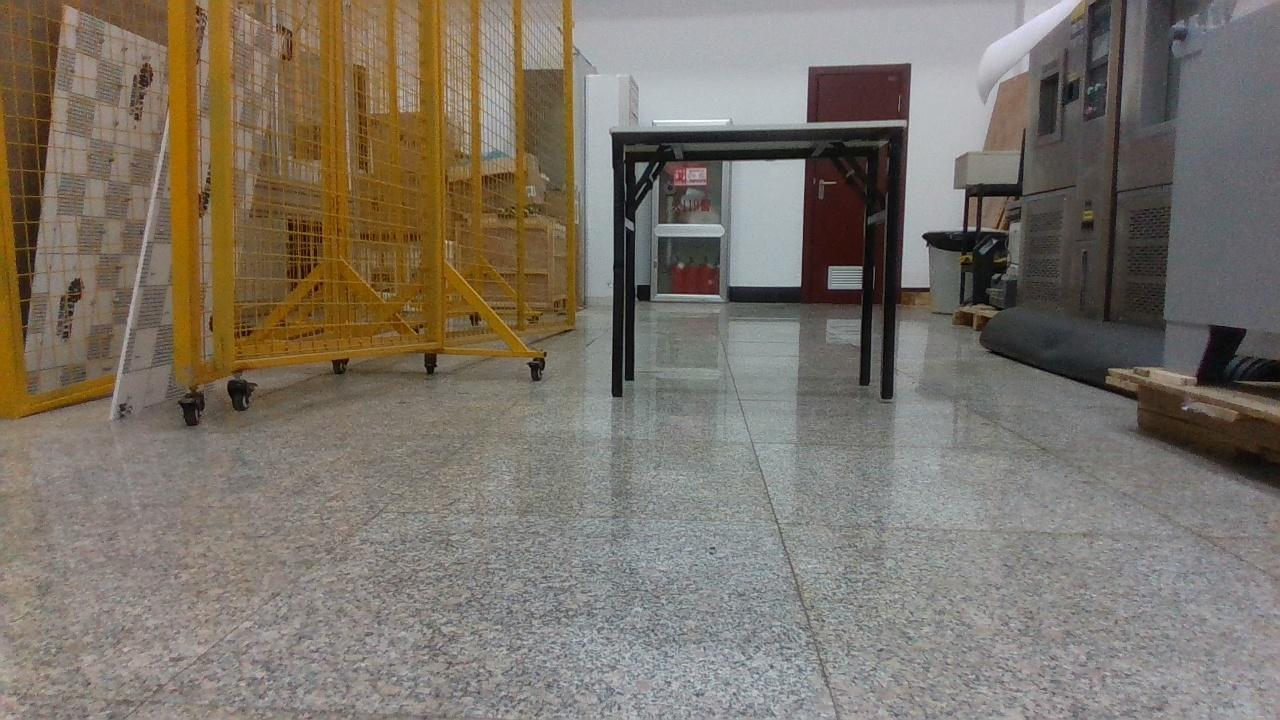table: (609, 120, 908, 398)
